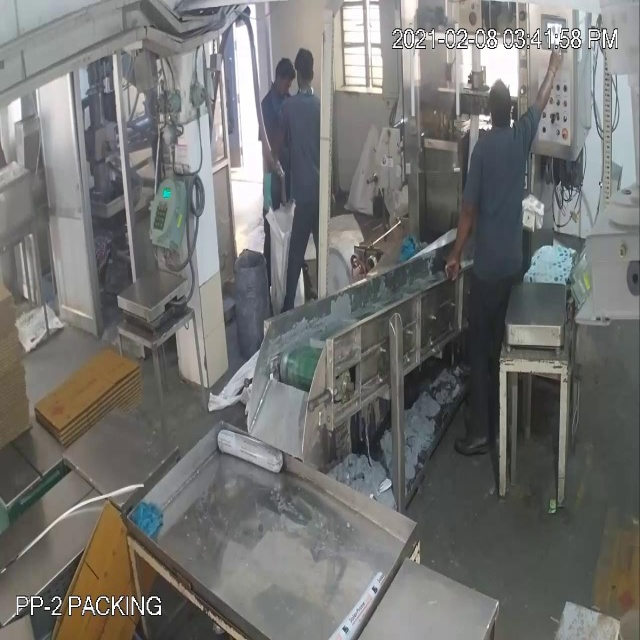Sin_guantes: (428, 188, 484, 301), (533, 37, 583, 110)
